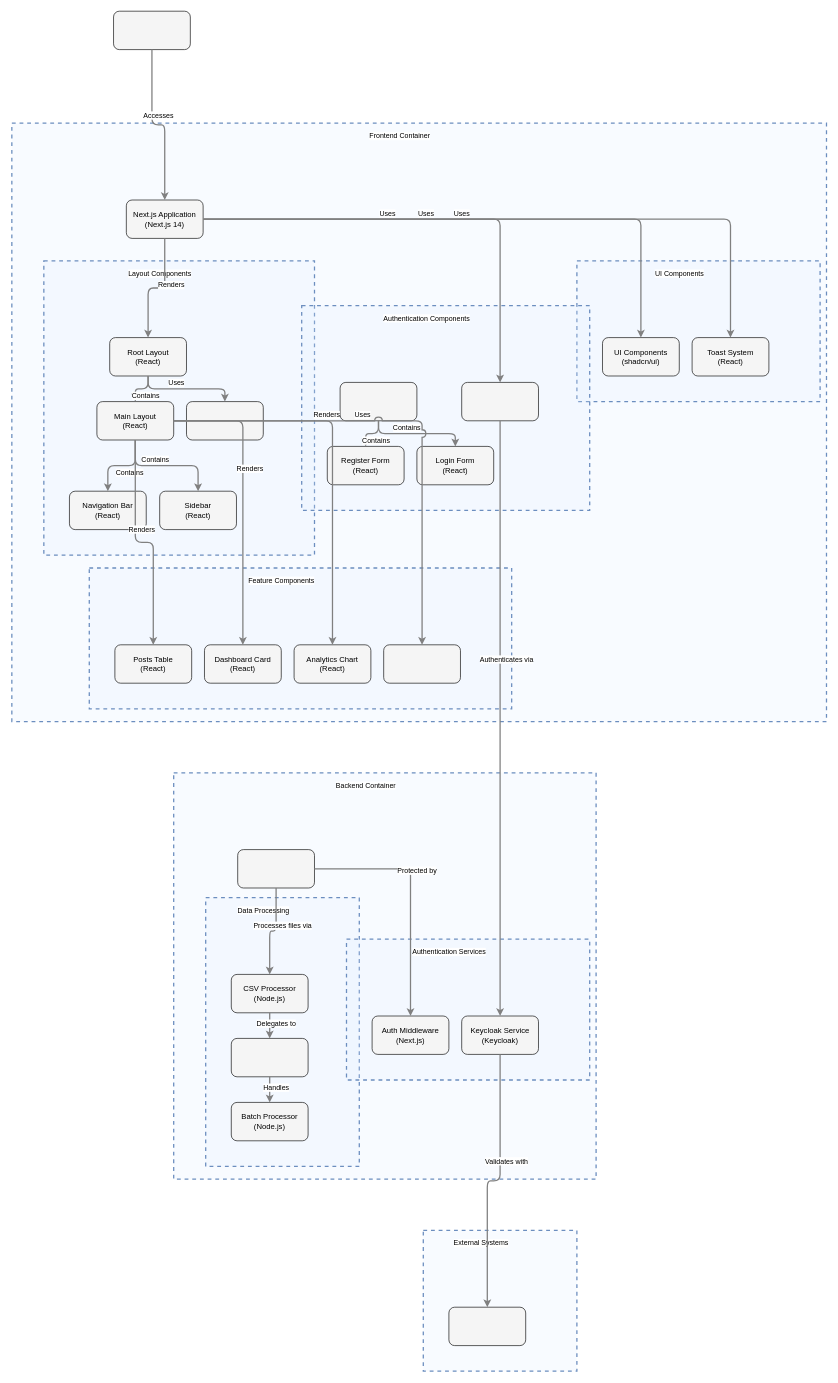
Image size: 838x1383. Some labels were removed from this diagram. The shapes that lost their labels are listed below. From the top down, each one's centre as x and y in pixels, then its label:
the point at 151,30: External User
the point at 224,420: Theme Provider (React Context)
the point at 378,401: Auth Tabs (React)
the point at 499,401: Auth Provider (Keycloak)
the point at 421,663: Progress Bar (React)
the point at 275,868: API Layer (Next.js API Routes)
the point at 269,1057: Worker Thread (Node.js)
the point at 487,1326: Keycloak Server (SSO)
